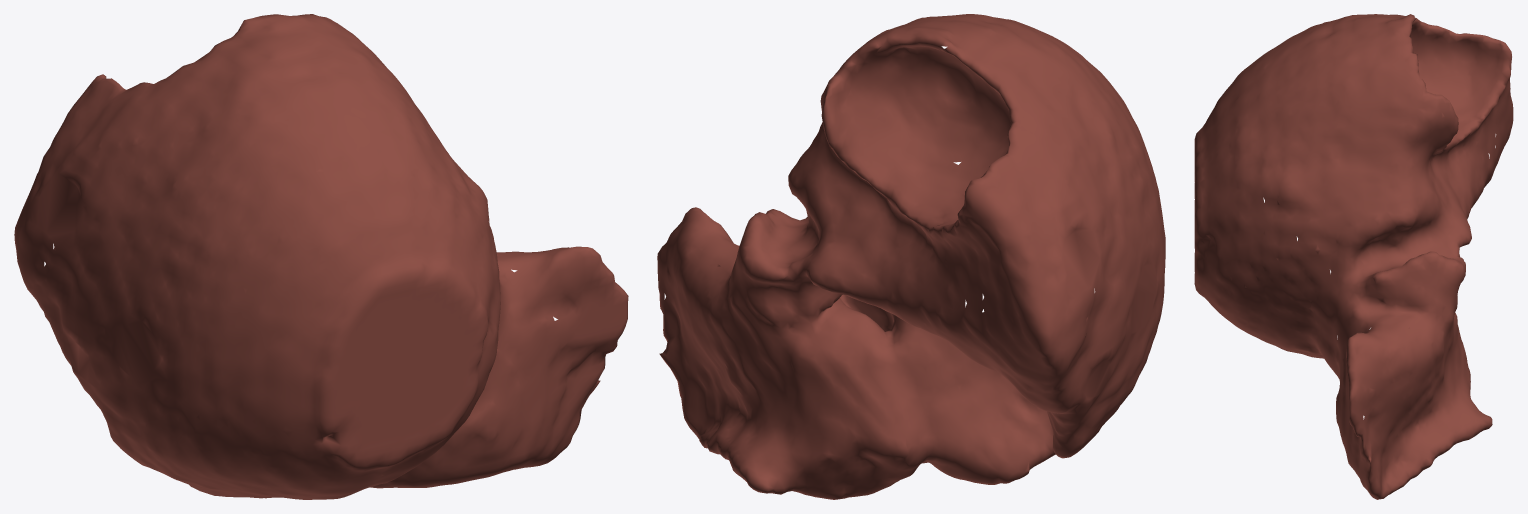
File: liver.glft.glb
The picture shows the model from 3 angles, left to right: view 1: azimuth 30°, elevation 25°; view 2: azimuth 150°, elevation 25°; view 3: azimuth 270°, elevation 25°; orthographic projection. The views are drawn at different scales.
Visible parts, largest first — view 1: liver-normal; view 2: liver-normal; view 3: liver-normal.
Part boxes in pixels (bbox=[...]): liver-normal: bbox=[14, 14, 628, 499]; liver-normal: bbox=[657, 14, 1165, 499]; liver-normal: bbox=[1194, 14, 1513, 499].
Bounding box in the file's own units: 210 × 192 × 145.
